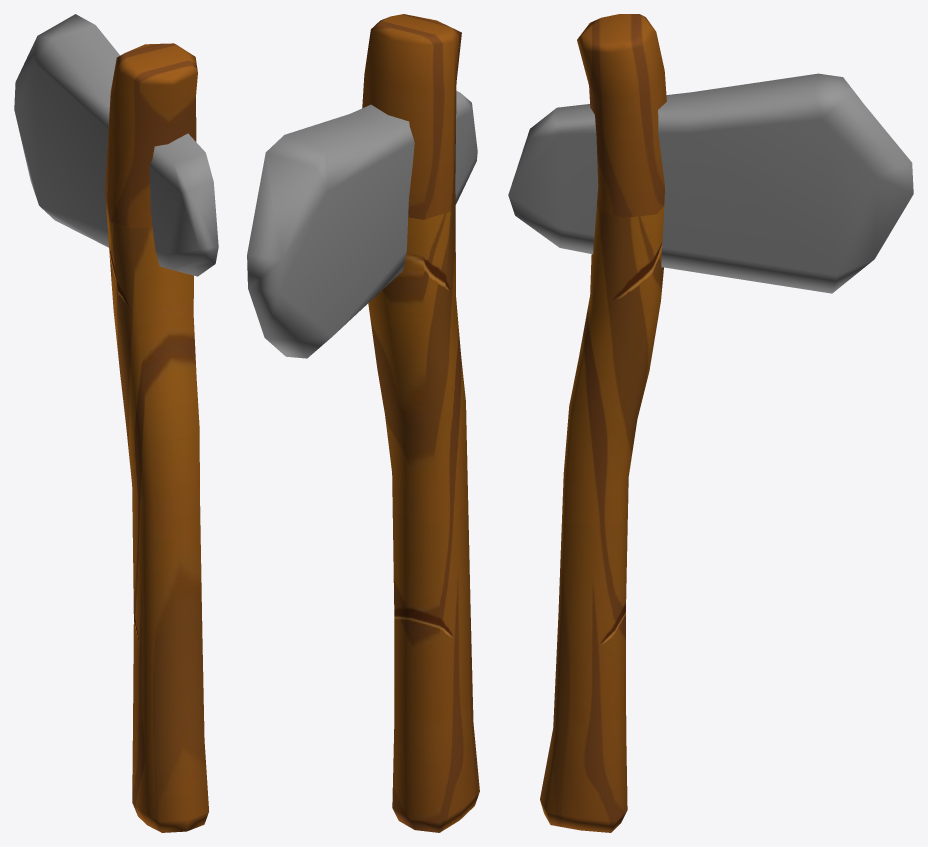
File: common_axe.fbx
3 renders of one model, left to right at view 1: azimuth 30°, elevation 25°; view 2: azimuth 150°, elevation 25°; view 3: azimuth 270°, elevation 25°, orthographic. The views are drawn at different scales.
Parts seen in each view (by area): view 1: bou__mTool; view 2: bou__mTool; view 3: bou__mTool.
Boxes of the visible parts, left/top/right/bottom form: bou__mTool: left=14, top=14, right=218, bottom=832; bou__mTool: left=247, top=14, right=479, bottom=832; bou__mTool: left=508, top=14, right=913, bottom=832.
Bounding box in the file's own units: 2.43 × 20.98 × 9.66.
Materials: 2 (1 with a texture image).
